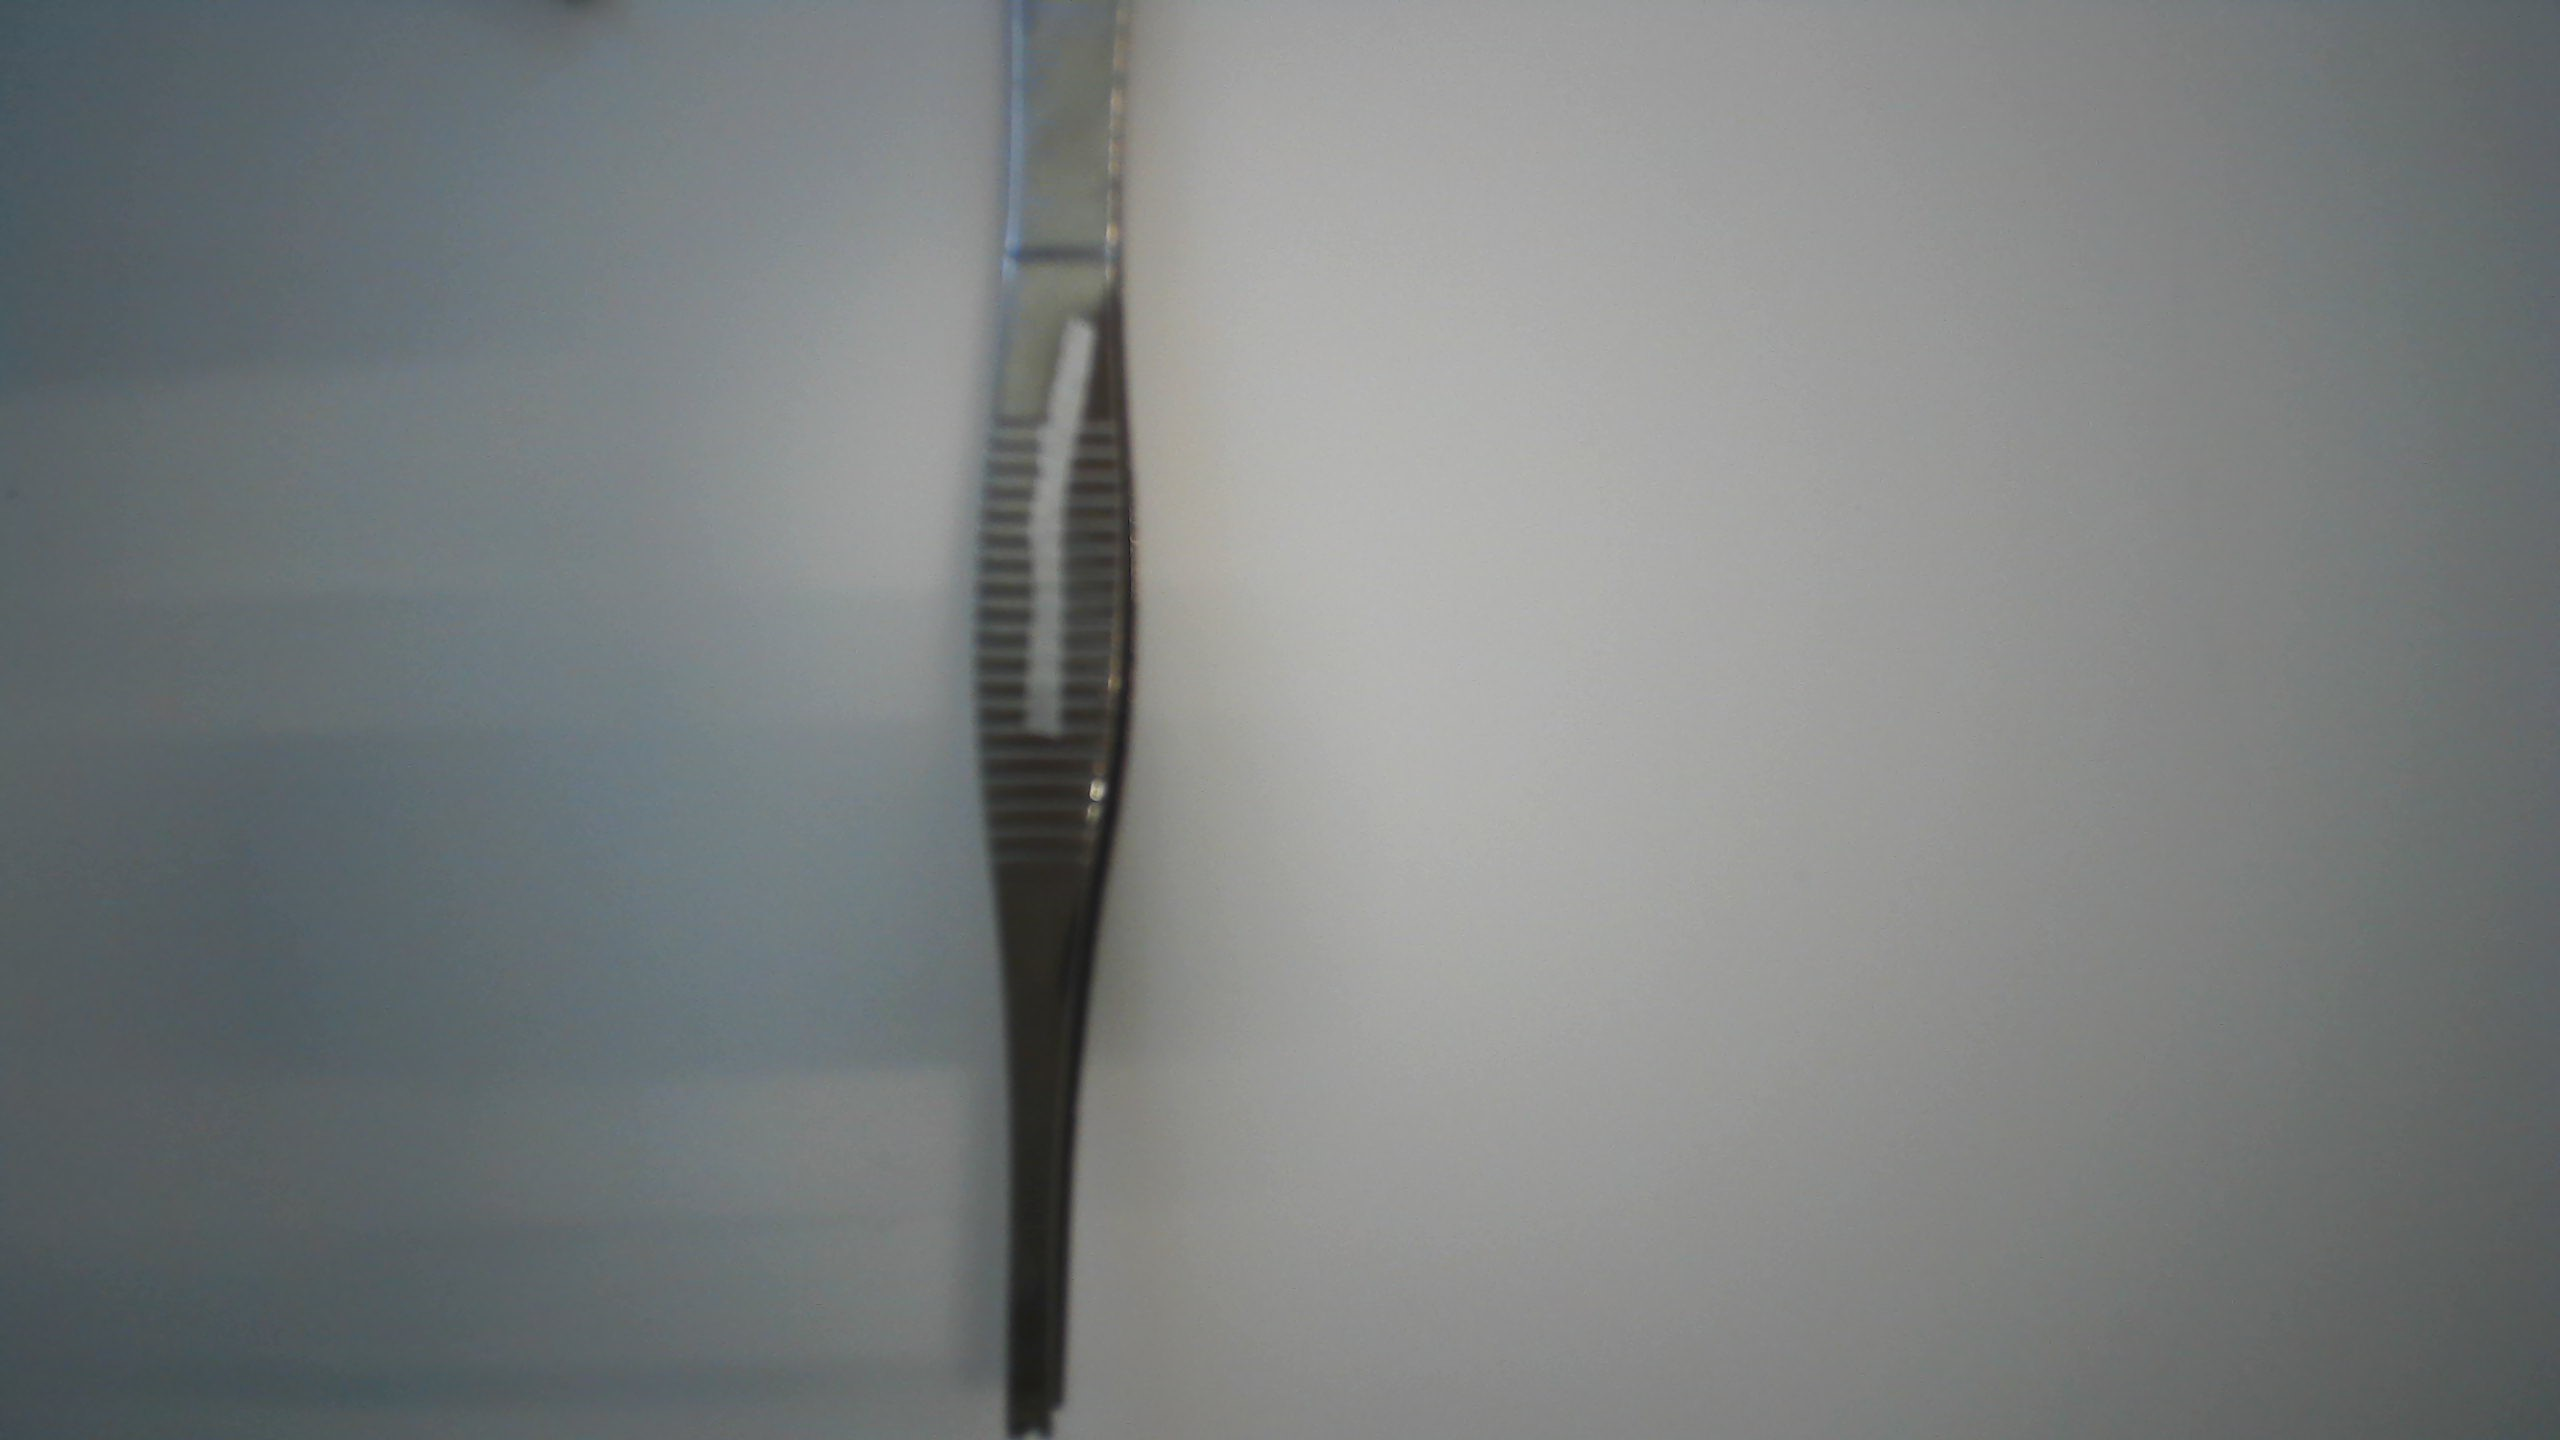Scratches: (1007, 308, 1102, 749)
